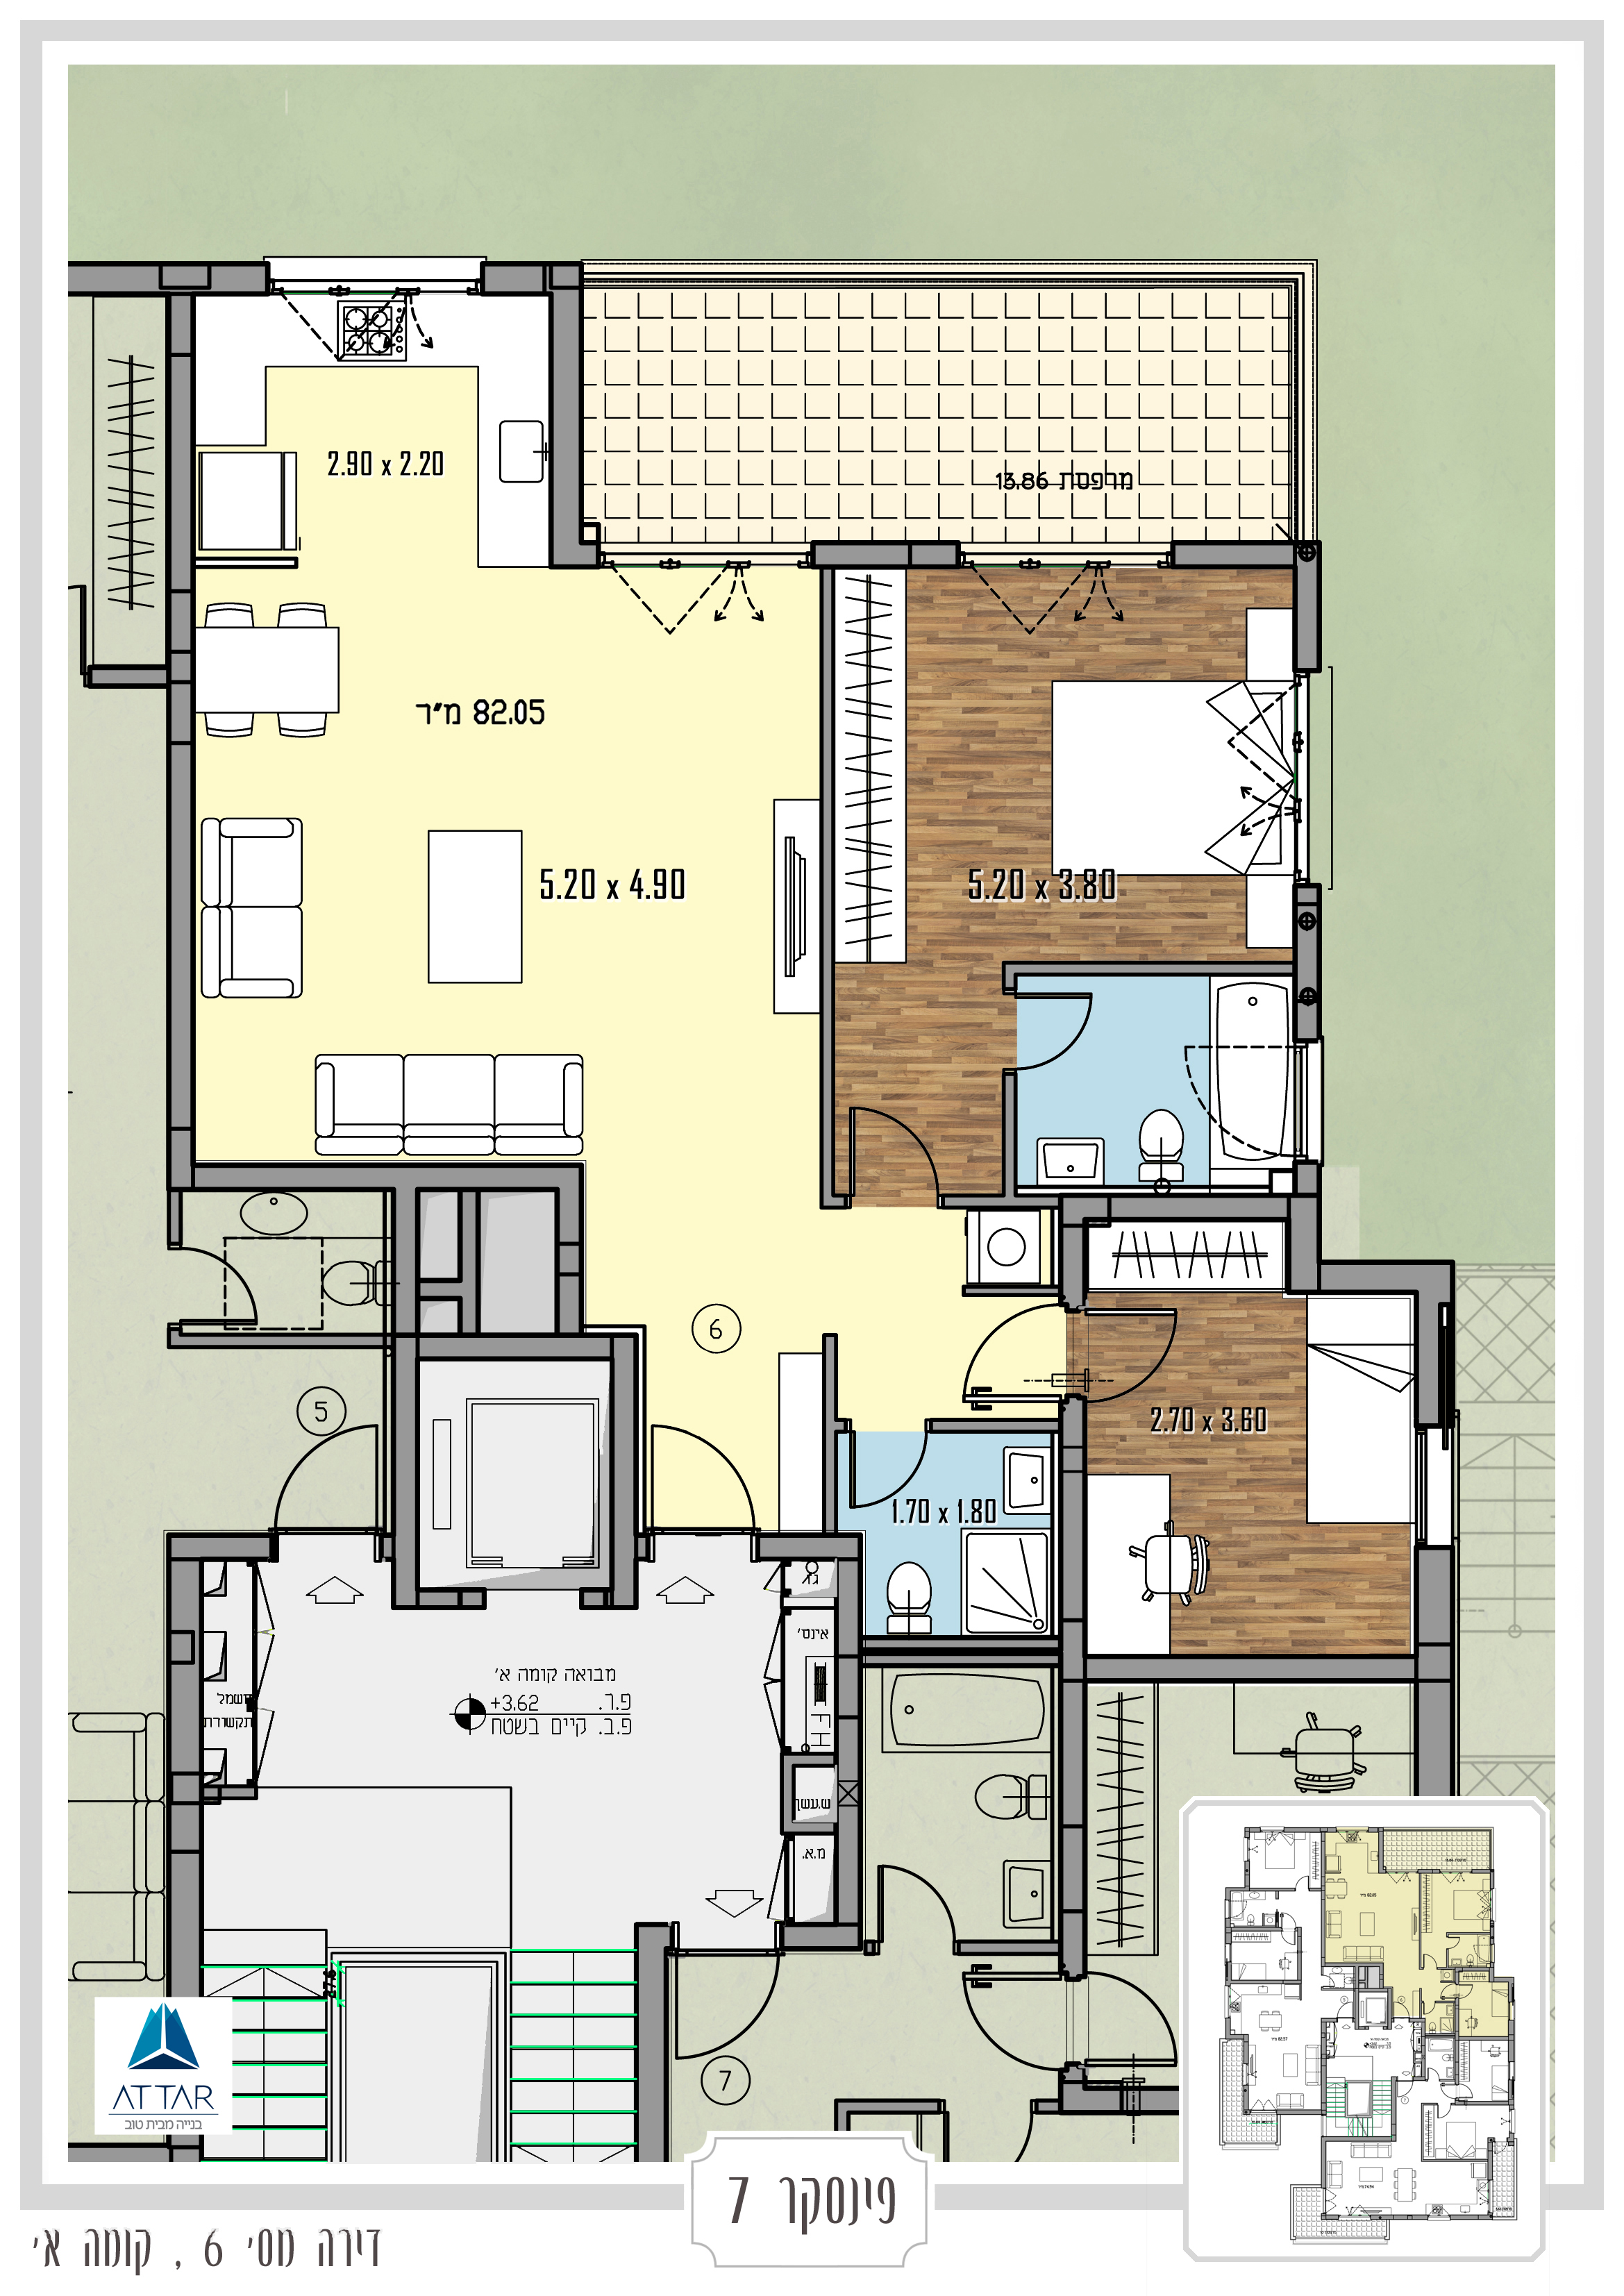door: (649, 1409, 758, 1520), (670, 1962, 787, 2061), (946, 1967, 1051, 2073), (844, 1093, 947, 1188), (949, 1303, 1051, 1398), (1025, 984, 1121, 1079), (870, 1836, 965, 1929), (1095, 1302, 1183, 1402), (1093, 1967, 1181, 2066), (1448, 1936, 1466, 1952), (1436, 2106, 1454, 2120), (1422, 1950, 1439, 1964), (1459, 1983, 1476, 1997), (1439, 2083, 1454, 2099), (1295, 1873, 1309, 1885), (1425, 2066, 1439, 2078)
window: (1417, 1433, 1429, 1539)
